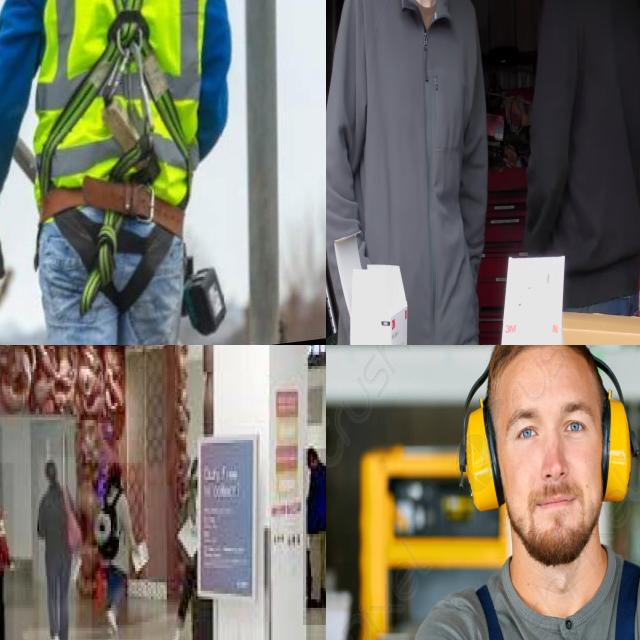Ear-protection: (455, 345, 640, 575)
Harness: (39, 0, 193, 196)
No_Glasses: (498, 389, 596, 460)
head_nohelmet: (47, 460, 58, 491)
person: (326, 0, 485, 345), (512, 0, 640, 320), (92, 463, 143, 640), (38, 457, 77, 640), (303, 448, 326, 627), (0, 463, 15, 640)
shoes: (167, 615, 185, 640), (44, 629, 59, 640)
